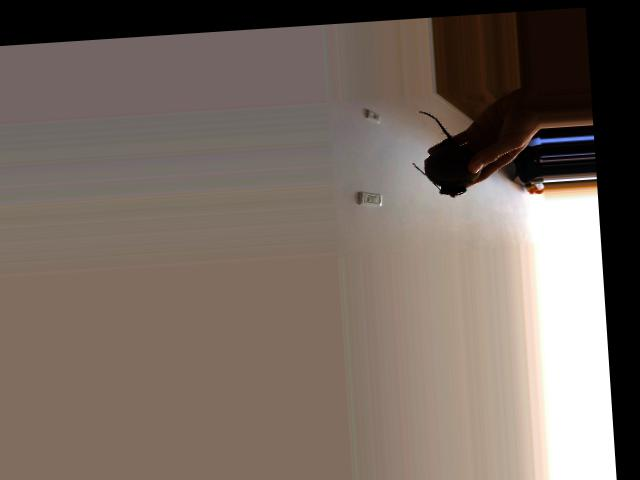beet: (408, 107, 483, 199)
